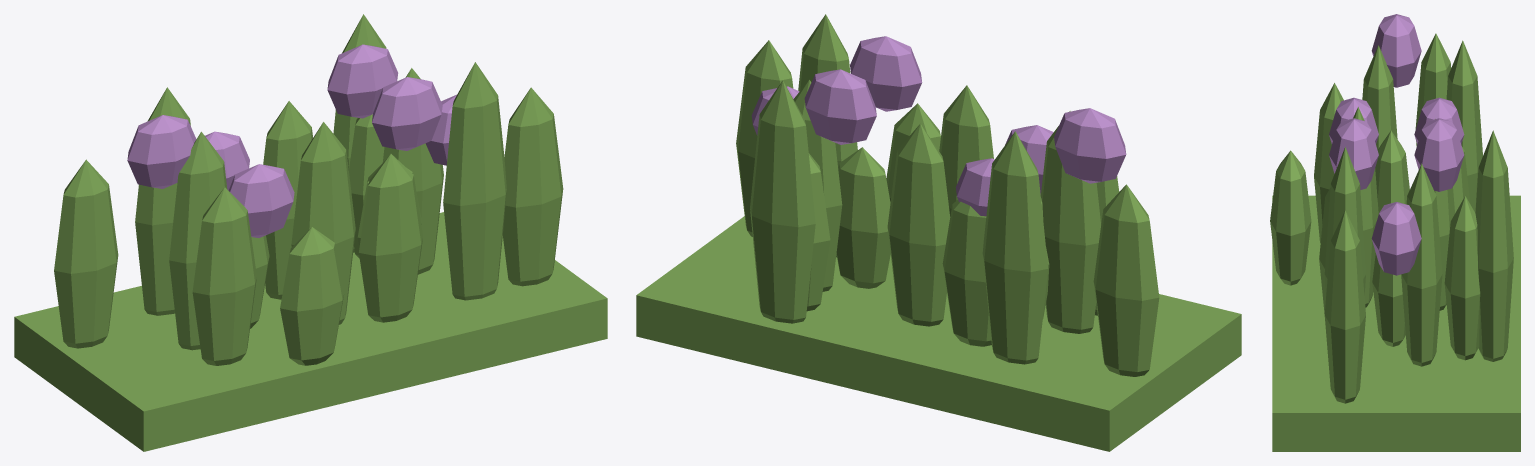
Rendered from GG-VEG-GROUND-COVER-CREEPING-001_LOD_CLOSE.glb.
3 renders of one model, left to right at view 1: azimuth 30°, elevation 25°; view 2: azimuth 150°, elevation 25°; view 3: azimuth 270°, elevation 25°, orthographic. The views are drawn at different scales.
Visible parts, largest first — view 1: GG_VEG_MOD_BASE_001, GG_VEG_MODULE_15, GG_VEG_MODULE_16, GG_VEG_MODULE_8, GG_VEG_MODULE_11, GG_VEG_MODULE_14, GG_VEG_MODULE_12, GG_VEG_MODULE_13, GG_VEG_MODULE_10, GG_VEG_MODULE_7, GG_VEG_MODULE_5, GG_VEG_ACCENT_6 (+9 smaller); view 2: GG_VEG_MOD_BASE_001, GG_VEG_MODULE_4, GG_VEG_MODULE_7, GG_VEG_MODULE_5, GG_VEG_MODULE_8, GG_VEG_MODULE_10, GG_VEG_MODULE_1, GG_VEG_MODULE_6, GG_VEG_ACCENT_2, GG_VEG_ACCENT_4, GG_VEG_ACCENT_6, GG_VEG_MODULE_13 (+7 smaller); view 3: GG_VEG_MOD_BASE_001, GG_VEG_MODULE_4, GG_VEG_MODULE_16, GG_VEG_MODULE_2, GG_VEG_MODULE_3, GG_VEG_MODULE_12, GG_VEG_MODULE_7, GG_VEG_ACCENT_1, GG_VEG_ACCENT_2, GG_VEG_MODULE_15, GG_VEG_ACCENT_4, GG_VEG_ACCENT_6 (+11 smaller).
Boxes of the visible parts, x1=… form: GG_VEG_MOD_BASE_001: x1=14, y1=212, x2=607, y2=451; GG_VEG_MODULE_15: x1=443, y1=62, x2=506, y2=300; GG_VEG_MODULE_16: x1=503, y1=87, x2=563, y2=286; GG_VEG_MODULE_8: x1=54, y1=159, x2=118, y2=348; GG_VEG_MODULE_11: x1=192, y1=187, x2=256, y2=365; GG_VEG_MODULE_14: x1=358, y1=154, x2=422, y2=322; GG_VEG_MODULE_12: x1=280, y1=227, x2=344, y2=365; GG_VEG_MODULE_13: x1=291, y1=122, x2=355, y2=324; GG_VEG_MODULE_10: x1=169, y1=131, x2=227, y2=350; GG_VEG_MODULE_7: x1=135, y1=87, x2=190, y2=315; GG_VEG_MODULE_5: x1=263, y1=101, x2=312, y2=299; GG_VEG_ACCENT_6: x1=372, y1=77, x2=442, y2=150; GG_VEG_MOD_BASE_001: x1=636, y1=216, x2=1241, y2=451; GG_VEG_MODULE_4: x1=750, y1=80, x2=815, y2=323; GG_VEG_MODULE_7: x1=982, y1=131, x2=1048, y2=364; GG_VEG_MODULE_5: x1=887, y1=123, x2=950, y2=326; GG_VEG_MODULE_8: x1=1093, y1=184, x2=1159, y2=376; GG_VEG_MODULE_10: x1=1040, y1=111, x2=1100, y2=333; GG_VEG_MODULE_1: x1=836, y1=147, x2=890, y2=288; GG_VEG_MODULE_6: x1=942, y1=200, x2=991, y2=346; GG_VEG_ACCENT_2: x1=804, y1=69, x2=876, y2=144; GG_VEG_ACCENT_4: x1=1054, y1=108, x2=1126, y2=183; GG_VEG_ACCENT_6: x1=850, y1=36, x2=922, y2=111; GG_VEG_MODULE_13: x1=939, y1=85, x2=993, y2=216; GG_VEG_MOD_BASE_001: x1=1272, y1=195, x2=1520, y2=451; GG_VEG_MODULE_4: x1=1475, y1=130, x2=1513, y2=361; GG_VEG_MODULE_16: x1=1324, y1=210, x2=1365, y2=403; GG_VEG_MODULE_2: x1=1401, y1=163, x2=1442, y2=366; GG_VEG_MODULE_3: x1=1444, y1=196, x2=1480, y2=360; GG_VEG_MODULE_12: x1=1270, y1=150, x2=1311, y2=285; GG_VEG_MODULE_7: x1=1446, y1=40, x2=1482, y2=212; GG_VEG_ACCENT_1: x1=1371, y1=202, x2=1421, y2=275; GG_VEG_ACCENT_2: x1=1414, y1=118, x2=1464, y2=191; GG_VEG_MODULE_15: x1=1324, y1=147, x2=1365, y2=295; GG_VEG_ACCENT_4: x1=1371, y1=14, x2=1421, y2=87; GG_VEG_ACCENT_6: x1=1329, y1=118, x2=1378, y2=189.
Bounding box in the file's own units: 0.7272 × 0.4037 × 0.3513.
